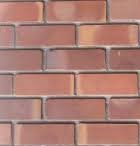brick: (78, 126, 137, 146), (17, 125, 75, 145), (47, 2, 107, 21), (78, 74, 138, 93), (49, 50, 104, 69), (81, 26, 138, 44), (48, 100, 105, 118), (18, 27, 74, 45), (16, 75, 74, 92), (1, 1, 44, 21), (1, 51, 41, 69), (1, 99, 41, 117), (111, 99, 140, 119), (110, 1, 140, 20), (111, 49, 139, 68), (1, 26, 13, 45), (1, 124, 11, 146), (1, 75, 12, 93)
